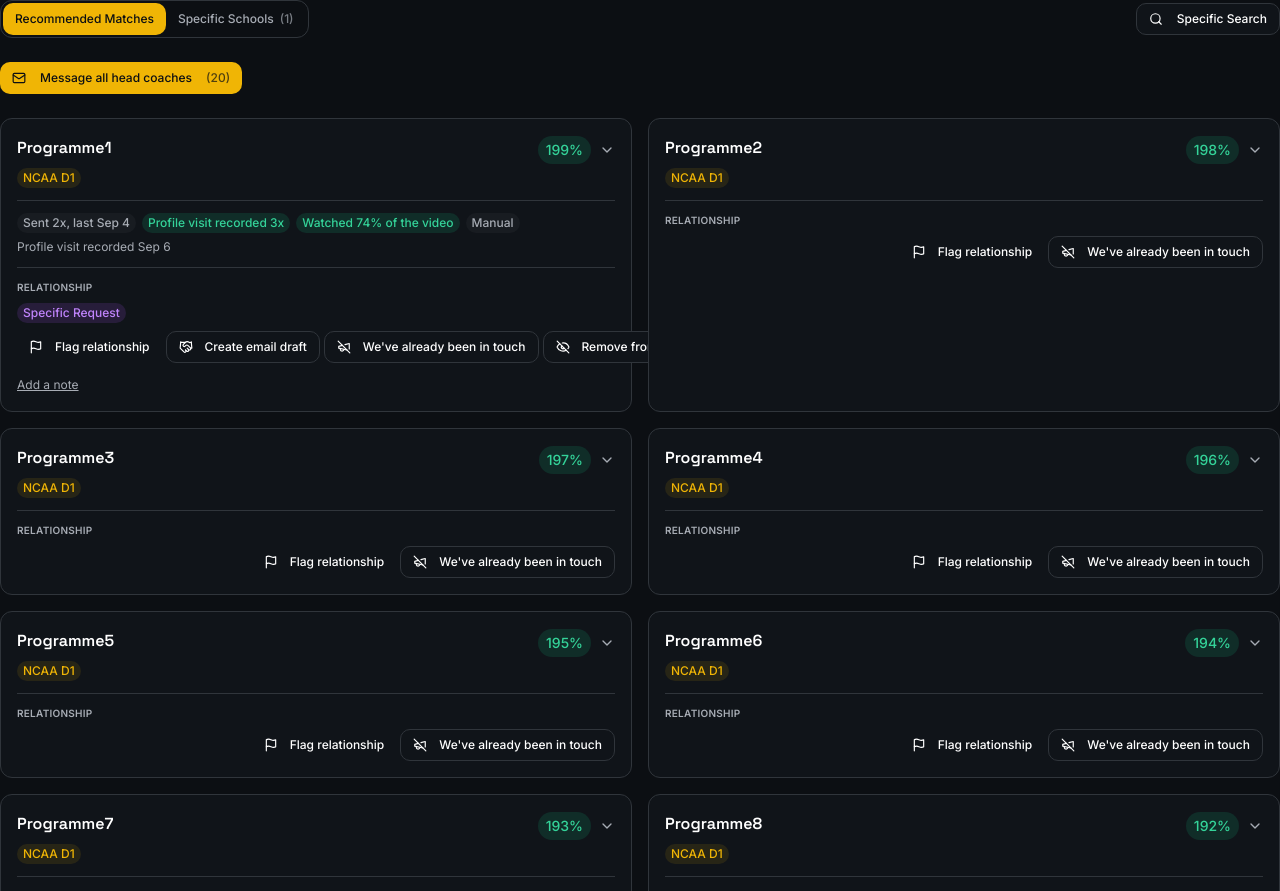
Test: A PROGRAMME IS A COLLEGE AND A SPORT › reports nothing for a sport with no history of its own
Click the tab "Specific Schools(1)" at [236, 19], box [166, 3, 306, 35]
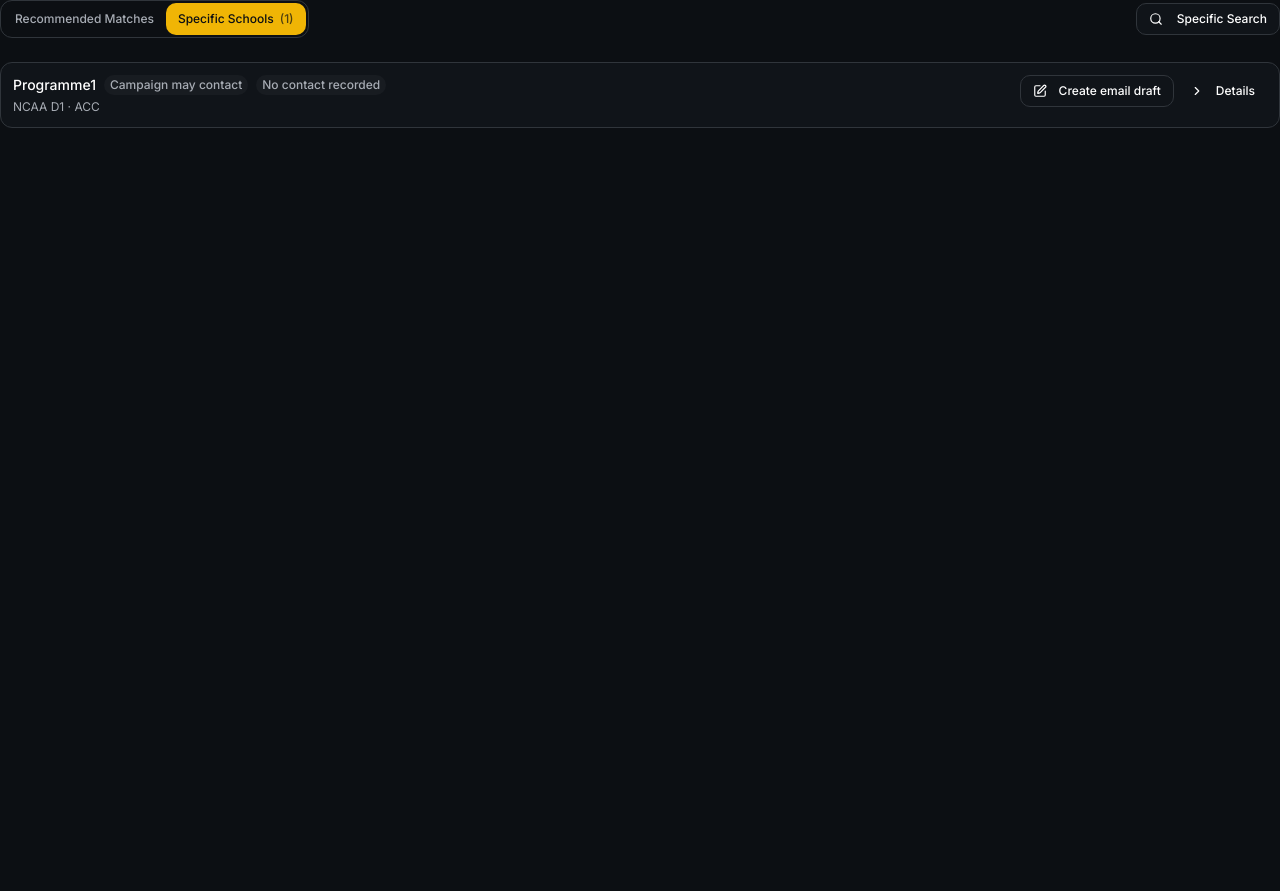
Now the text with test id "contact-state" reads "No contact recorded", box [262, 77, 380, 92]
Click the button "Details" at [1222, 91], box [1178, 75, 1267, 107]
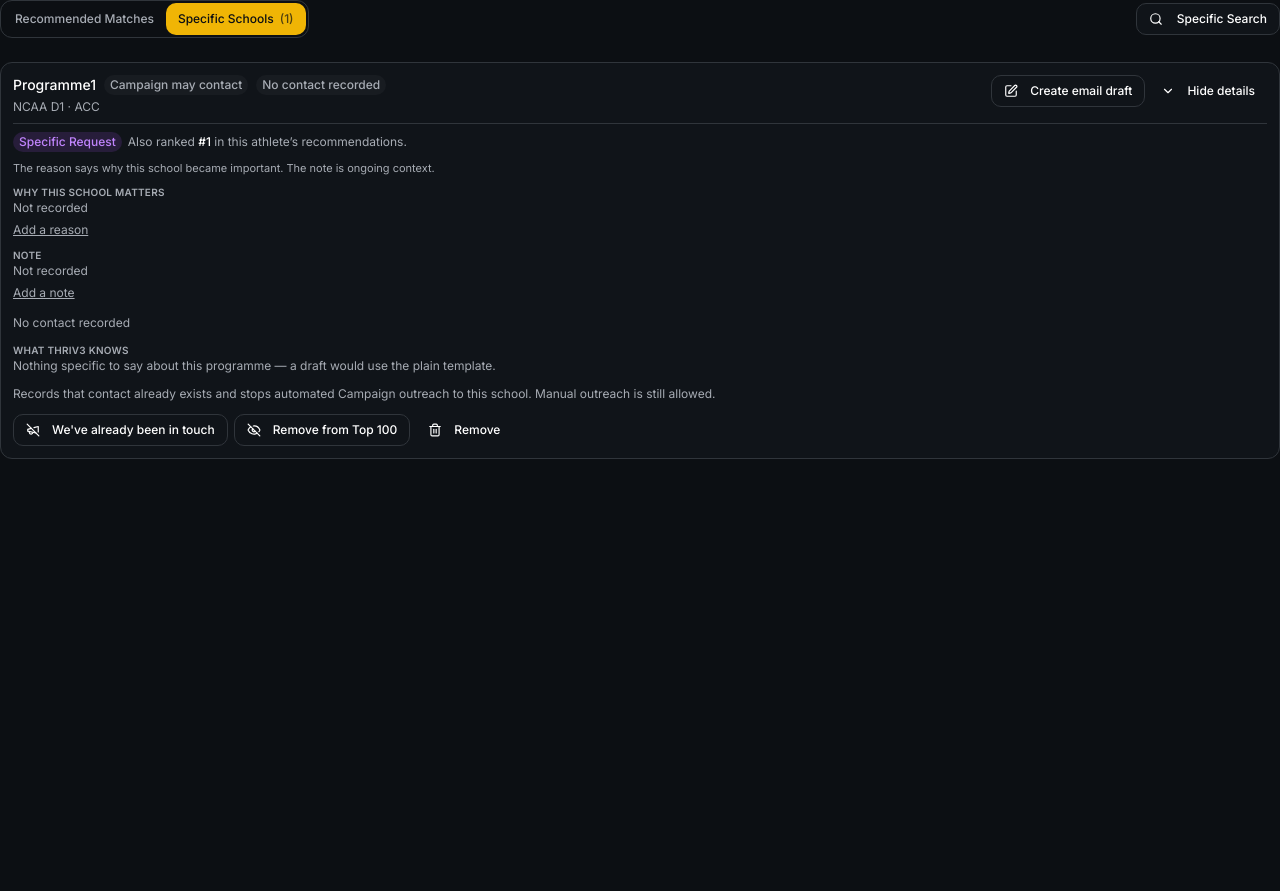
Expected: the text with test id "specific-school-row" does not show "Sent 2x"
Now the element with test id "contact-summary" reads "No contact recorded", box [13, 314, 130, 330]
